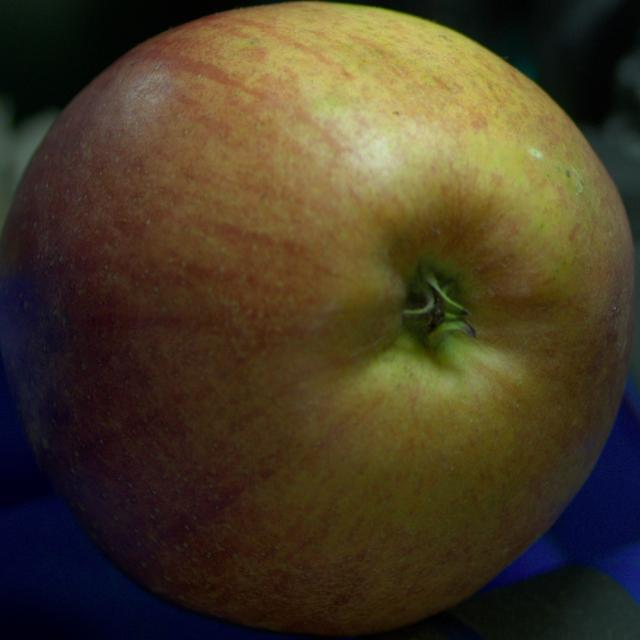apple: (0, 2, 633, 635)
